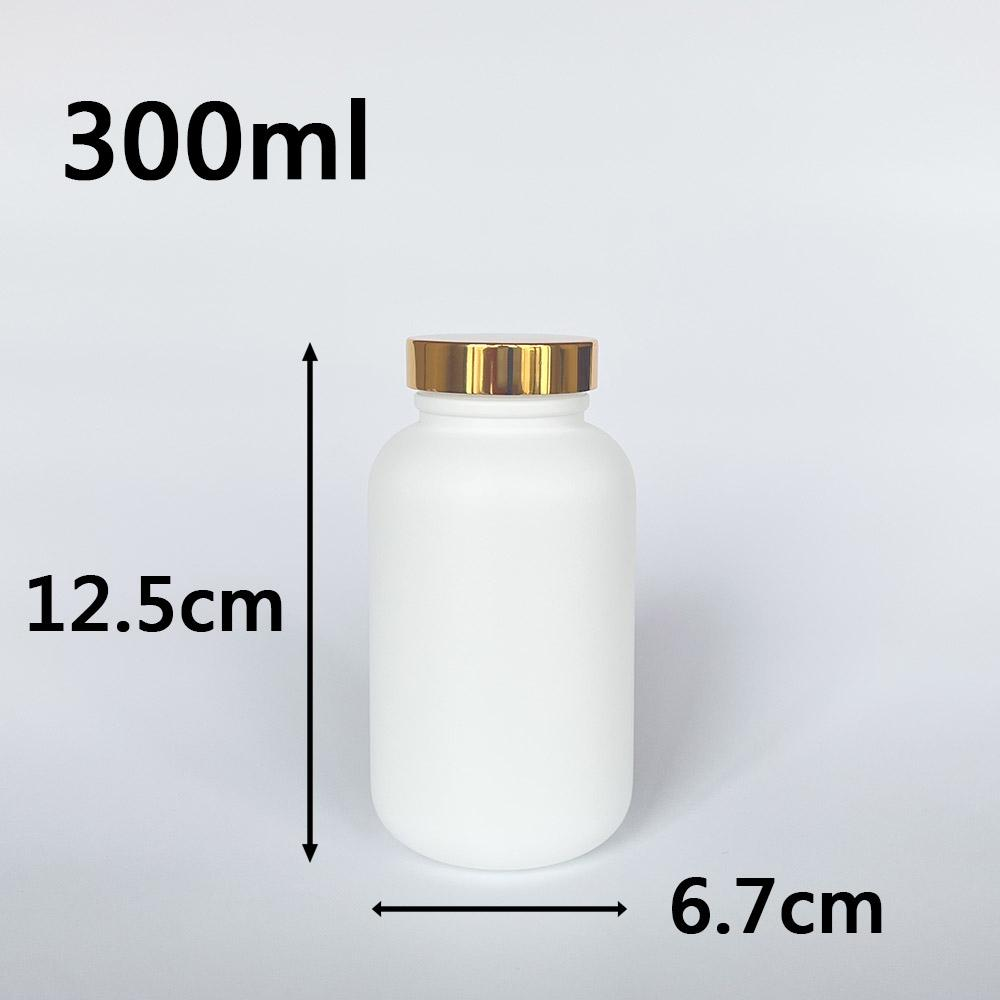medicinejar: (337, 283, 659, 890)
